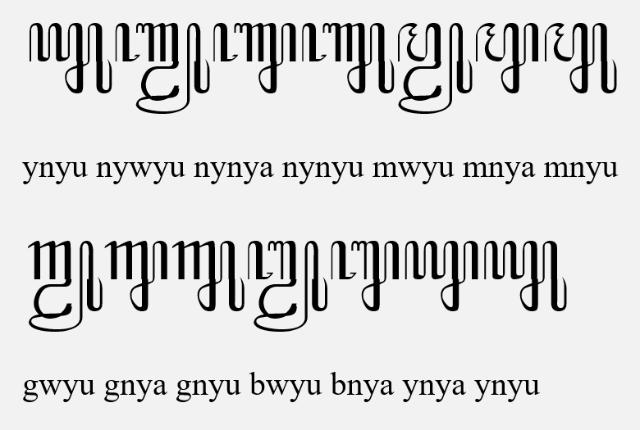bny: (330, 240, 400, 312)
bwyu: (247, 239, 329, 333)
gny: (104, 242, 168, 312)
gnyu: (171, 241, 245, 313)
gwyu: (27, 239, 103, 333)
mny: (474, 22, 540, 94)
mnyu: (543, 22, 617, 94)
mwyu: (397, 22, 473, 114)
nyny: (212, 22, 296, 94)
nynyu: (300, 21, 396, 95)
nywyu: (115, 22, 211, 114)
yny: (404, 242, 480, 312)
ynyu: (28, 22, 112, 94), (483, 240, 567, 312)
